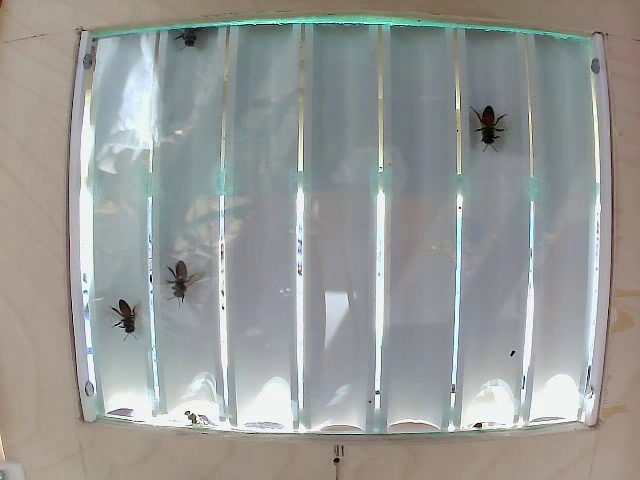bee: (453, 101, 503, 150), (166, 256, 201, 311), (107, 297, 151, 339)
